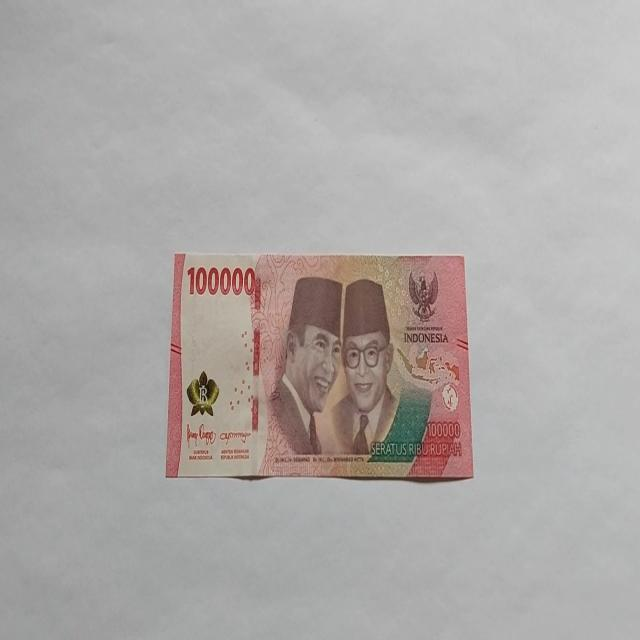seratus ribu rupiah: (165, 250, 474, 482), (259, 275, 343, 473)
